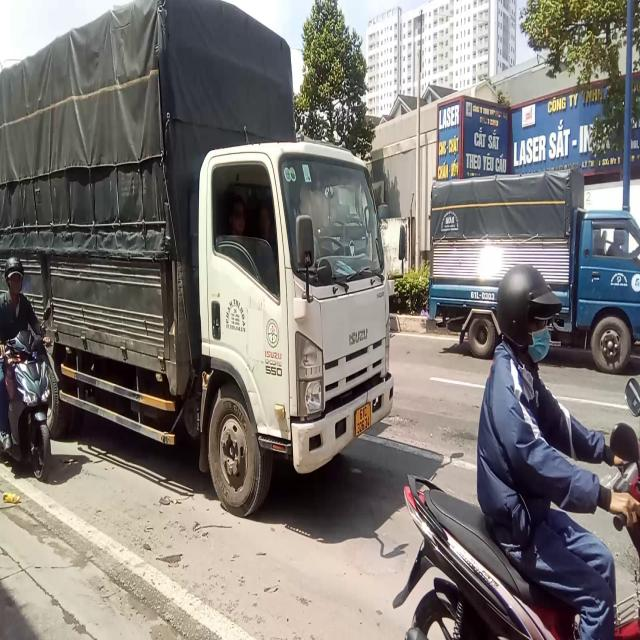bien_vang: (354, 403, 372, 433)
